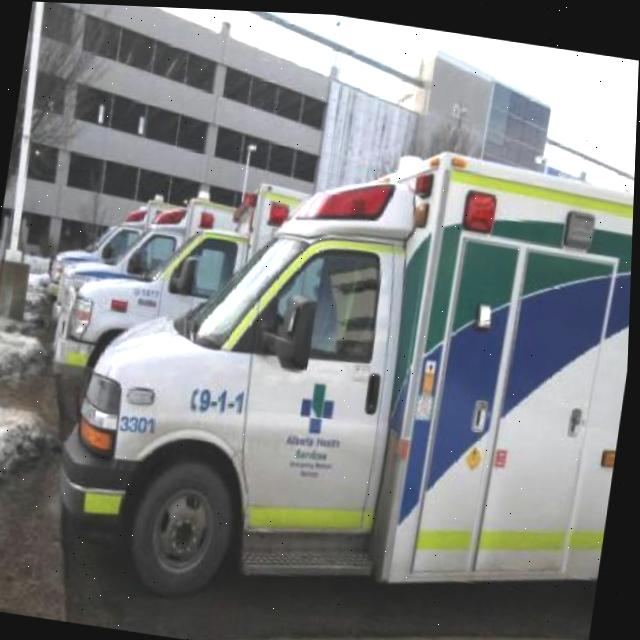emergency: (44, 94, 637, 640), (43, 153, 361, 446), (49, 162, 260, 357), (44, 177, 194, 321)
